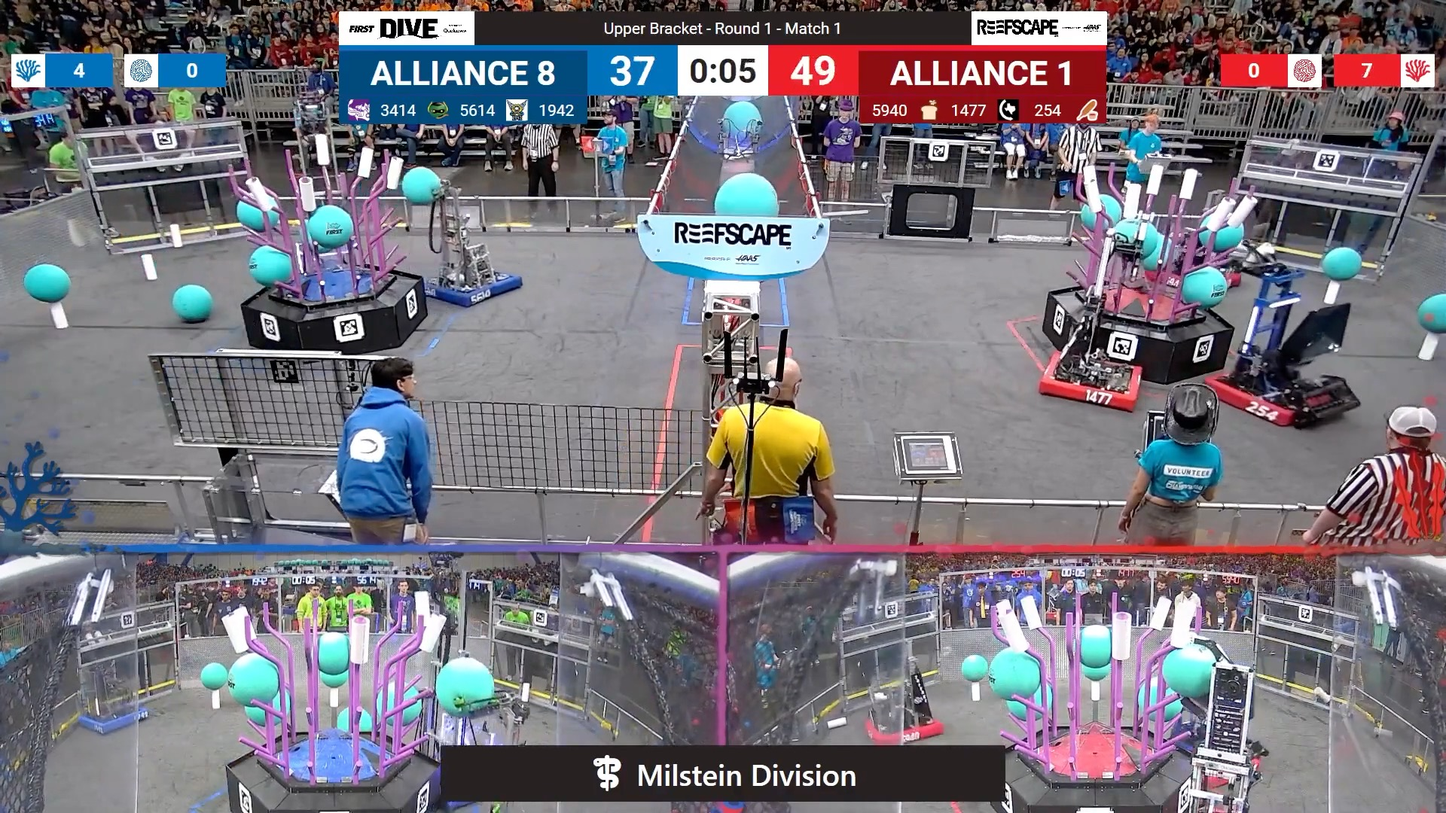bumpers: (1195, 368, 1356, 434), (1036, 347, 1151, 413), (840, 698, 959, 756), (419, 263, 529, 310), (1140, 266, 1246, 294), (74, 706, 155, 738)
